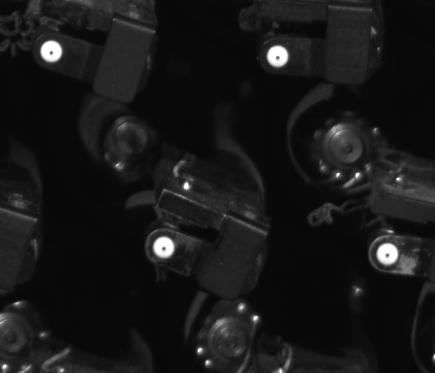fiber: (259, 41, 296, 72), (146, 230, 180, 262), (371, 238, 403, 271), (38, 36, 71, 65)
